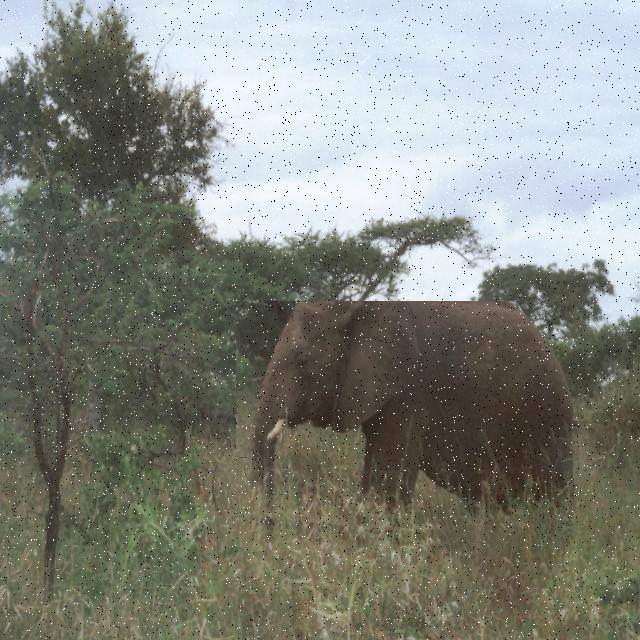elephant: (236, 301, 587, 549)
